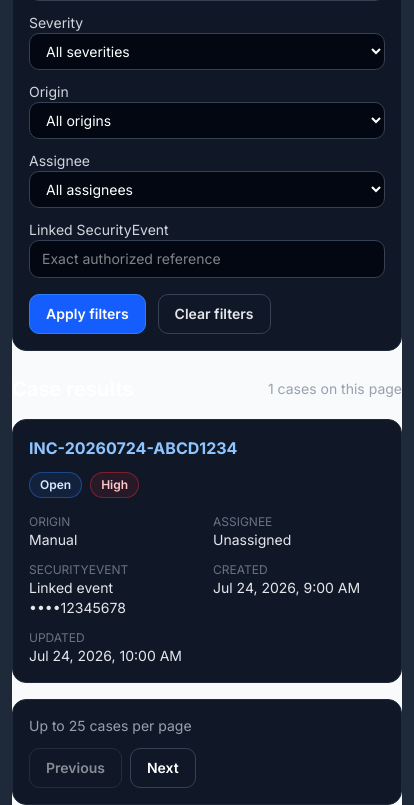
Gate 4F Slice C5: authenticated incident-case management UI › 6. cursor pagination requests the next C4 page
(page scrolled)
Click the button "Next".
click(163, 768)  # box [130, 748, 196, 788]
(page scrolled)
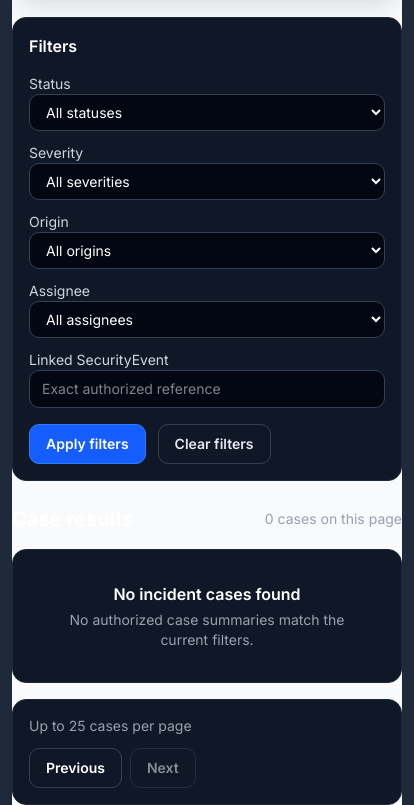
Expected: the heading "No incident cases found" is shown, [113, 584, 301, 604]
Expected: the button "Previous" is enabled, [29, 748, 122, 788]
